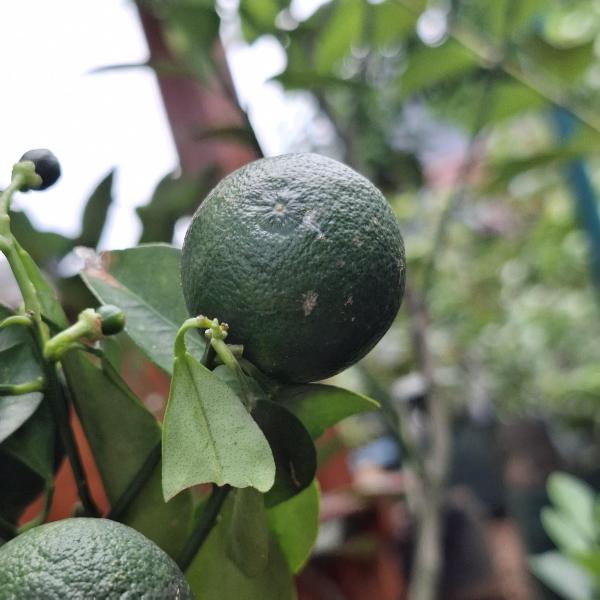Scab: (169, 124, 420, 393), (1, 503, 201, 597)
